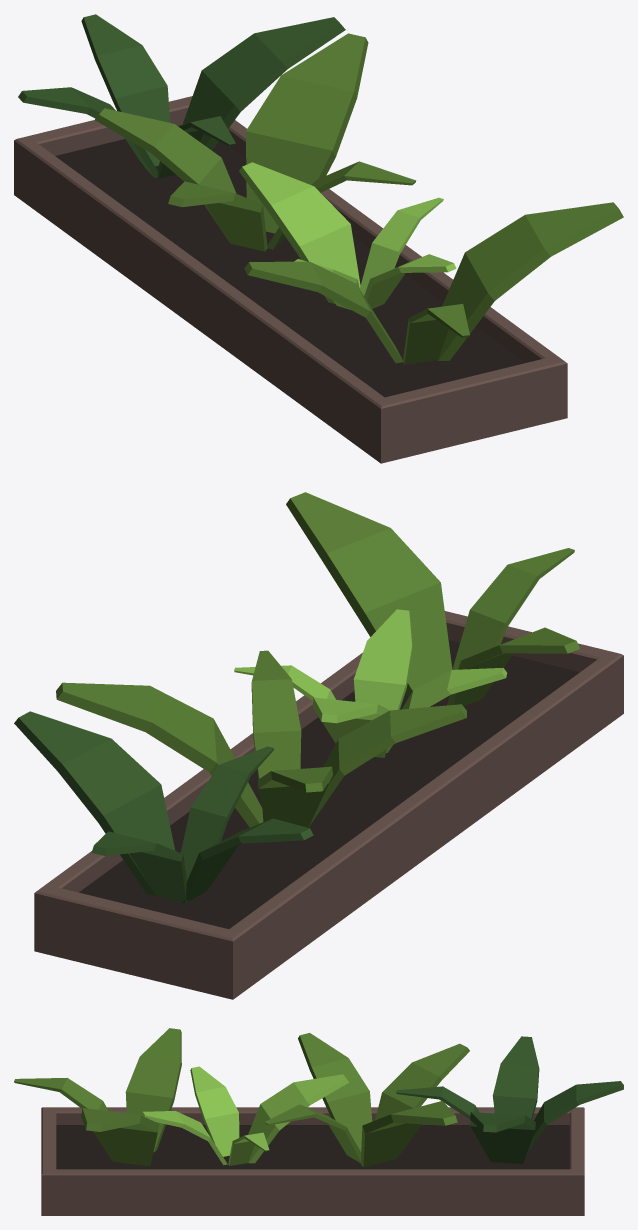
The model's file is PlantPot_02.glb.
The picture shows the model from 3 angles, top to bottom: view 1: azimuth 30°, elevation 25°; view 2: azimuth 150°, elevation 25°; view 3: azimuth 270°, elevation 25°; orthographic projection. The views are drawn at different scales.
Parts seen in each view (by area): view 1: PlantPot_02; view 2: PlantPot_02; view 3: PlantPot_02.
Boxes of the visible parts, box(x1,y1,x2,y2) form: PlantPot_02: box(14, 14, 623, 463); PlantPot_02: box(14, 492, 623, 999); PlantPot_02: box(14, 1028, 623, 1215).
Size of what is drawn, in the model's own units: 1.13 by 0.5501 by 2.49.
Materials: 1 (1 with a texture image).
